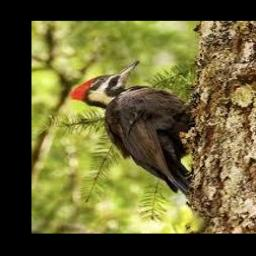Woodpecker: (70, 60, 196, 196)
